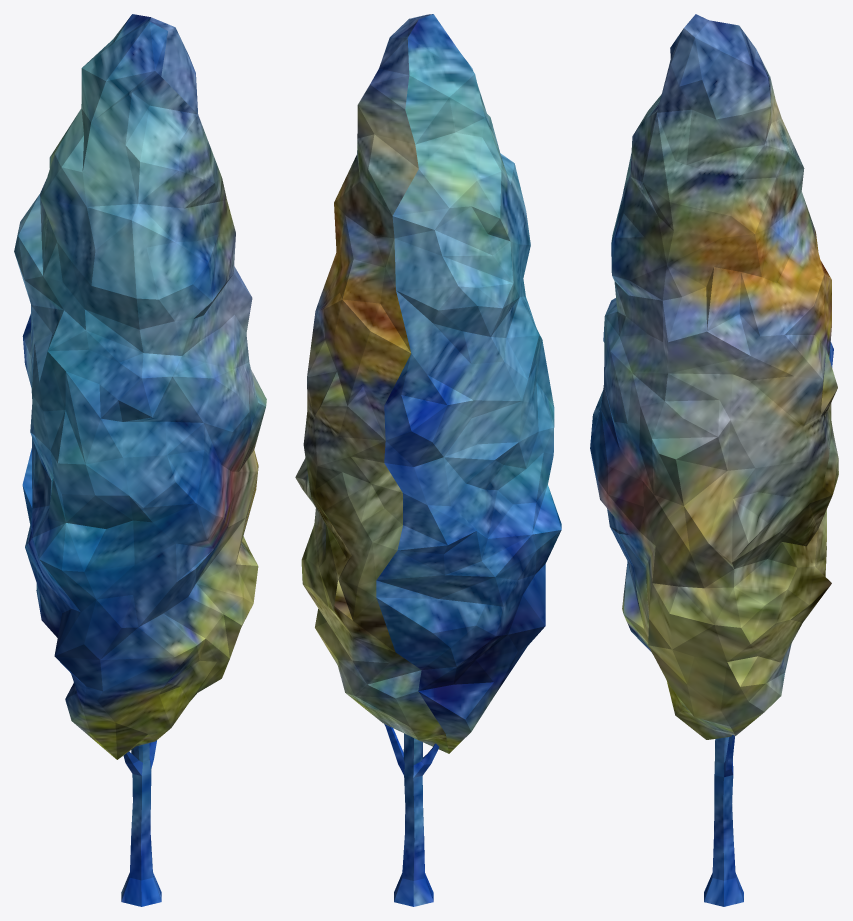
3 renders of one model, left to right at view 1: azimuth 30°, elevation 25°; view 2: azimuth 150°, elevation 25°; view 3: azimuth 270°, elevation 25°, orthographic.
Parts seen in each view (by area): view 1: Object_4_Object_0; view 2: Object_4_Object_0; view 3: Object_4_Object_0.
Part boxes in pixels (box(x1,y1,x2,y2)): Object_4_Object_0: box(14, 14, 266, 906); Object_4_Object_0: box(295, 14, 561, 906); Object_4_Object_0: box(590, 14, 838, 906).
Bounding box in the file's own units: 1.79 × 6.43 × 1.65.
Materials: 1 (1 with a texture image).
